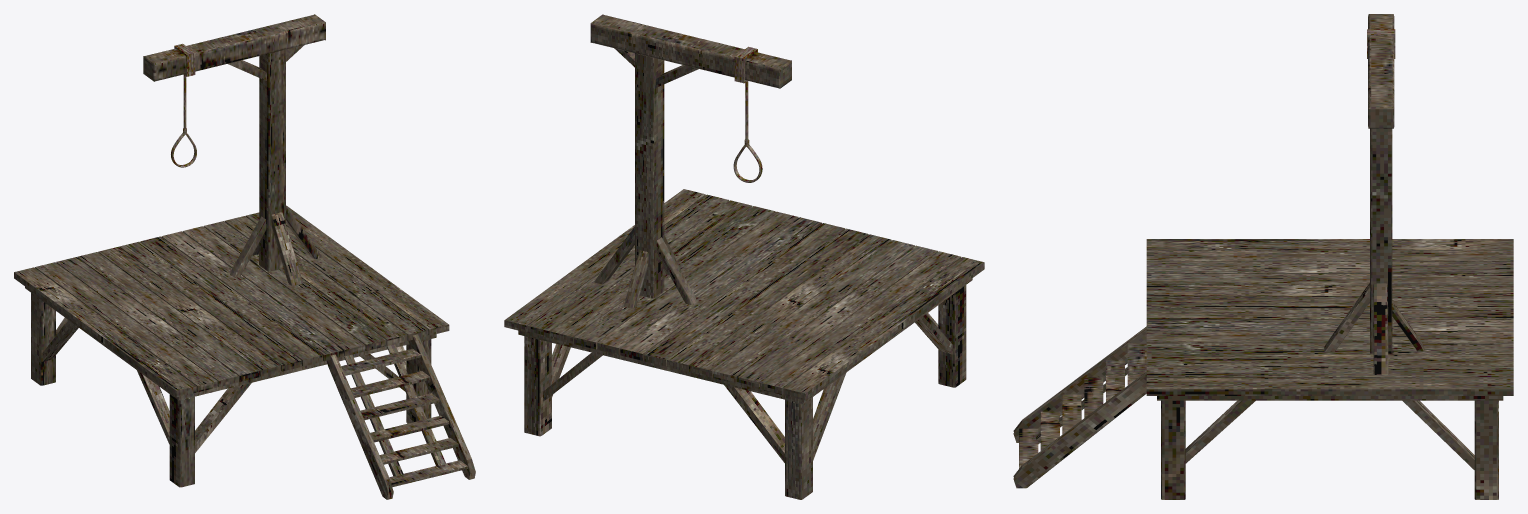
The model's file is gallow.fbx.
3 renders of one model, left to right at view 1: azimuth 30°, elevation 25°; view 2: azimuth 150°, elevation 25°; view 3: azimuth 270°, elevation 25°, orthographic. The views are drawn at different scales.
Visible parts, largest first — view 1: Gallows; view 2: Gallows; view 3: Gallows.
Boxes of the visible parts, x1=… form: Gallows: x1=14, y1=14, x2=475, y2=499; Gallows: x1=504, y1=14, x2=984, y2=499; Gallows: x1=1013, y1=14, x2=1513, y2=499.
Bounding box in the file's own units: 6.98 × 8.36 × 9.82.
